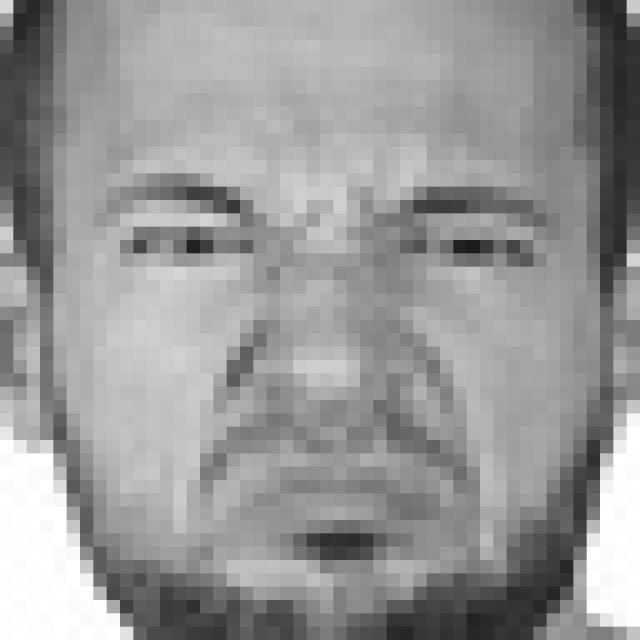disgust: (97, 161, 568, 566)
